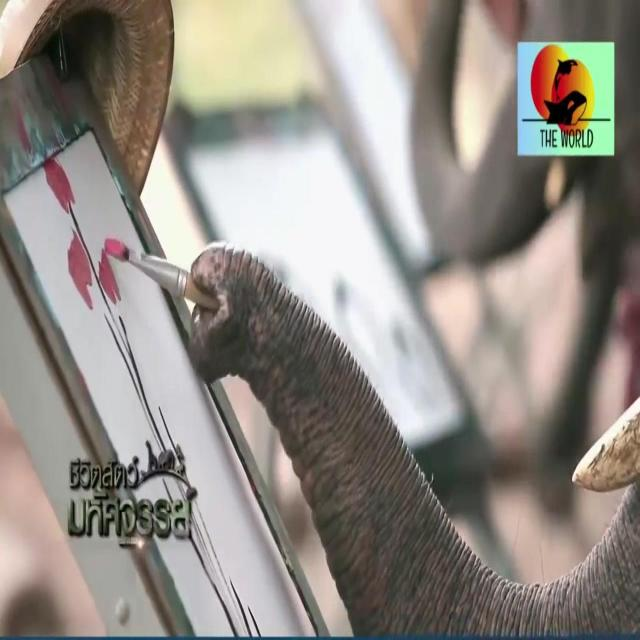Elephant: (179, 157, 640, 640)
